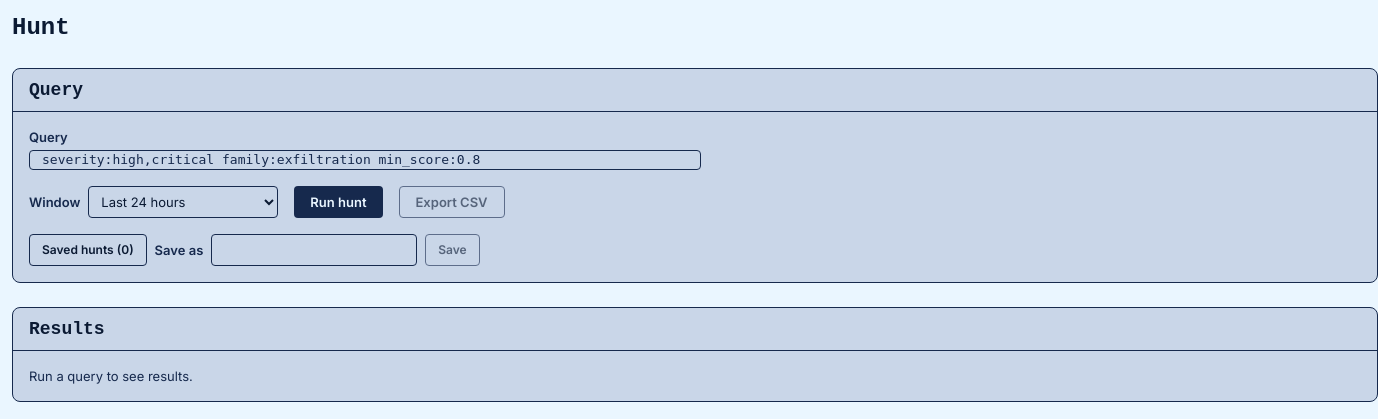
it: the hunt console › refuses a term it cannot read before searching anything
In the dropdown labelled "Query": (365, 160) [29,150,701,170], type "src_ip:10.0.0.7"
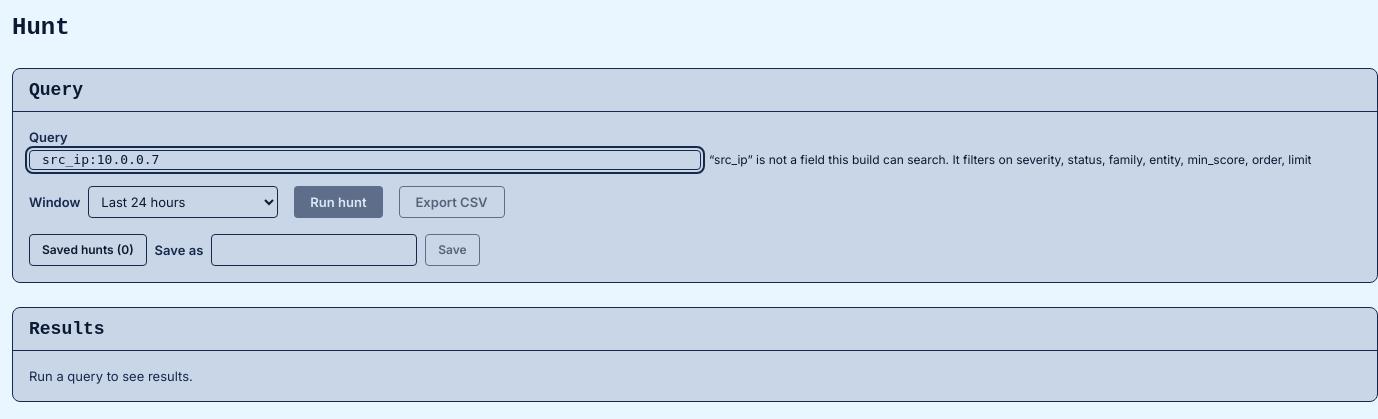
Expected: the text "not a field this build can search" is shown, [709,152,1312,167]
Expected: the button "Run hunt" is disabled, [294,186,382,218]
